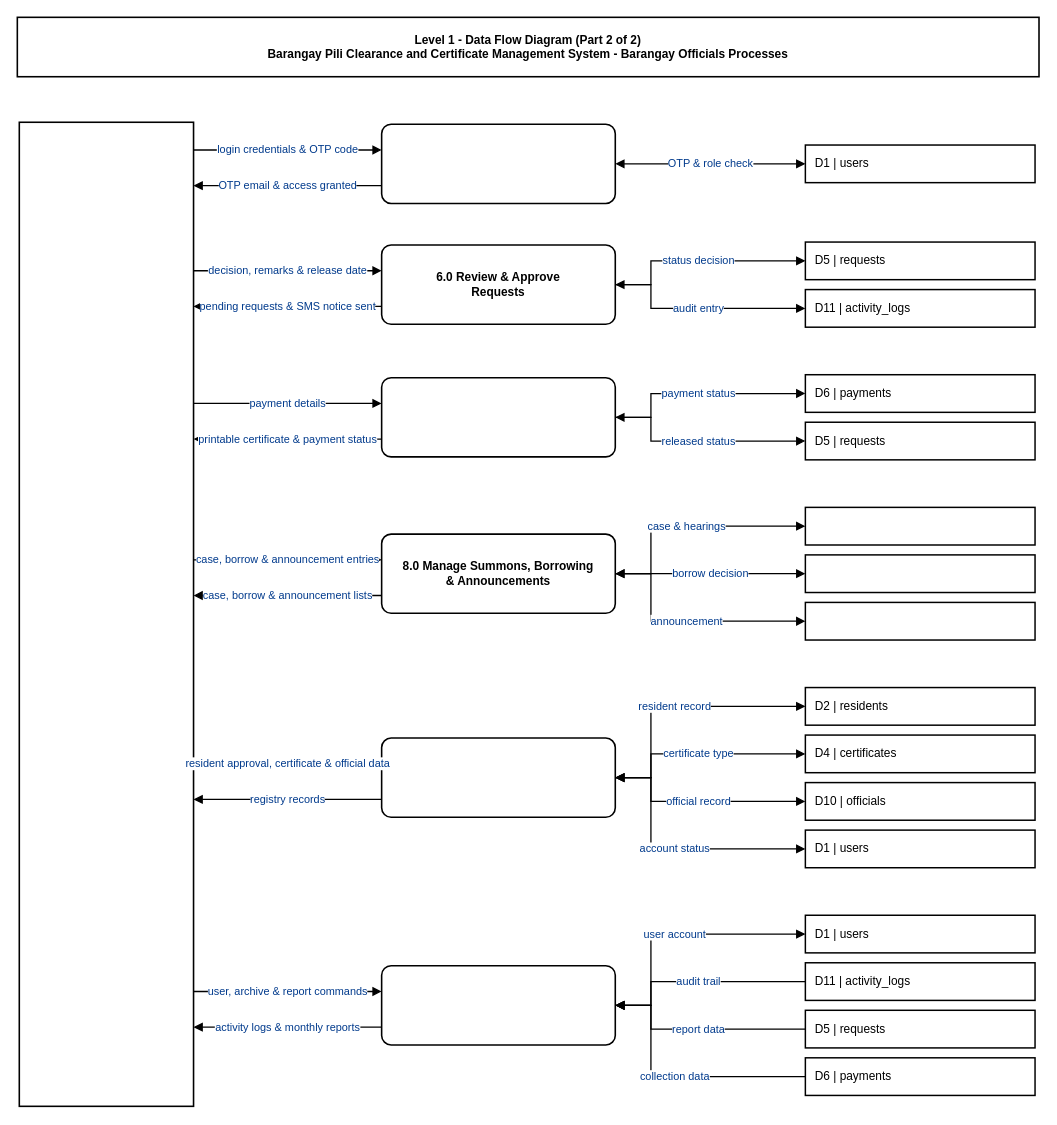
Image size: 1057x1125. Some labels were removed from this diagram. The shapes that lost their labels are listed below. From the top down, each one's box as (x1, y1, x2, y2) in pixels, then its label:
(380, 123, 616, 204): 5.0 Authenticate Officials (Email OTP)
(380, 376, 616, 457): 7.0 Record Payments & Release Documents
(804, 506, 1035, 545): D8 | summons
(804, 554, 1035, 593): D7 | borrow_requests
(18, 121, 194, 1107): BARANGAY OFFICIALS Staff / Administrator Admin Portal
(804, 601, 1035, 640): D9 | bulletin_announcements
(380, 737, 616, 818): 9.0 Maintain Registry & Reference Data
(380, 964, 616, 1045): 10.0 Administer Users, Archive, Logs & Reports
